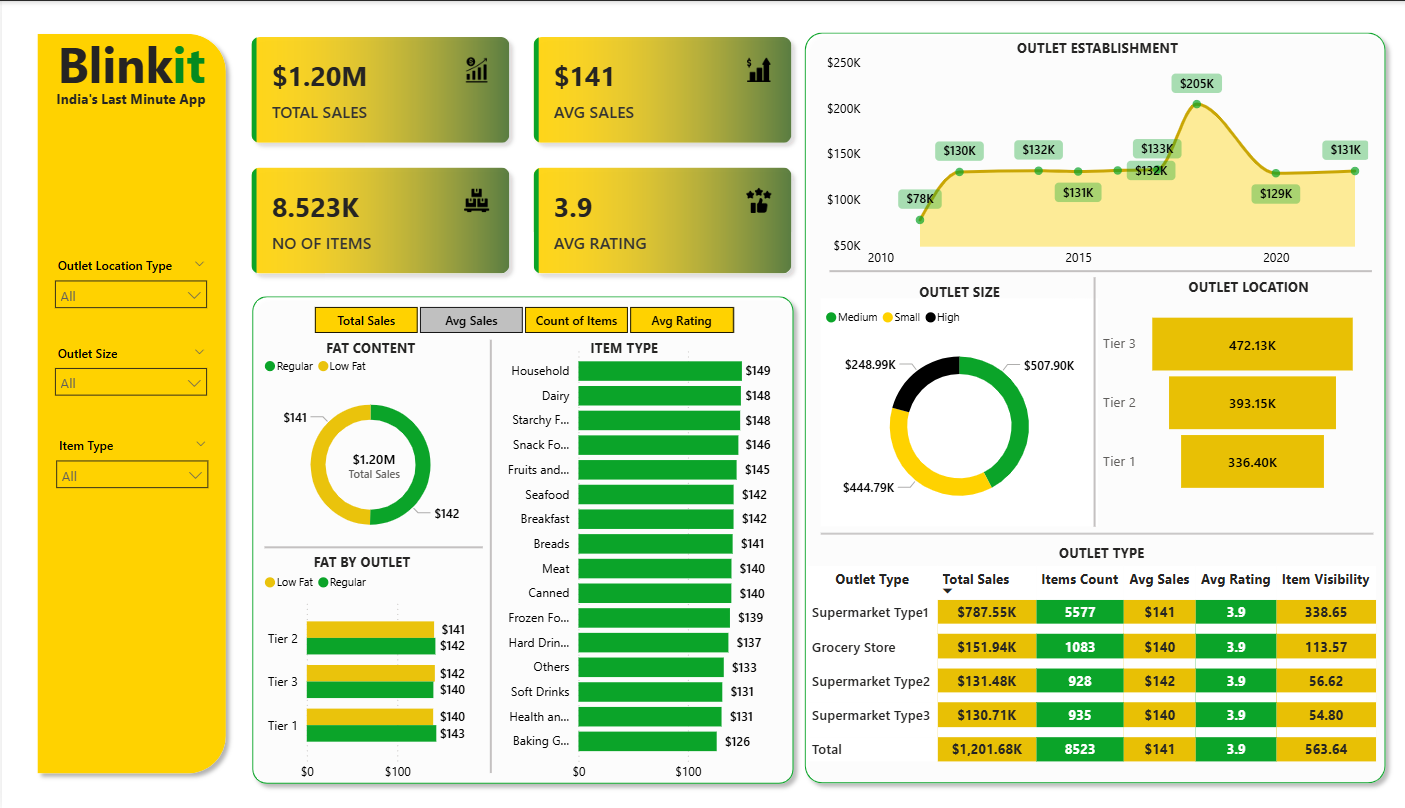

Layout of this report page (visuals, bound fields, positions):
{"tool":"powerbi","page":{"name":"Main Page","canvas":[1399,800],"ordinal":0},"visuals":[{"type":"shape","box":[25.9,23.2,204.5,749.8],"z":0},{"type":"textbox","box":[42.3,24.5,171.8,84.5],"z":1000},{"type":"textbox","box":[43.6,83.2,169.1,31.4],"z":2000},{"type":"cardVisual","fields":{"Data":["BlinkIT Grocery Data.Total Sales","BlinkIT Grocery Data.Avg Sales","BlinkIT Grocery Data.Count of Items","BlinkIT Grocery Data.Avg Rating"]},"box":[230.4,19.1,569.9,269.9],"z":3000},{"type":"shape","box":[238.6,283.6,553.5,500.3],"z":4000},{"type":"donutChart","title":"FAT CONTENT","fields":{"Y":["BlinkIT Grocery Data.Total Sales"],"Category":["BlinkIT Grocery Data.Item Fat Content"]},"box":[254.4,343,220.3,205.1],"z":5000},{"type":"slicer","fields":{"Values":["Metrics.Metrics"]},"box":[283.1,295,464.4,40],"z":6000},{"type":"cardVisual","fields":{"Data":["BlinkIT Grocery Data.Total Sales"]},"box":[320.3,426.6,96.2,57],"z":7000},{"type":"clusteredBarChart","title":"FAT BY OUTLET","fields":{"Y":["BlinkIT Grocery Data.Total Sales"],"Category":["BlinkIT Grocery Data.Outlet Location Type"],"Series":["BlinkIT Grocery Data.Item Fat Content"]},"box":[254.4,557,221.5,224.1],"z":8000},{"type":"shape","box":[260,533.8,216.2,12.5],"z":9000},{"type":"shape","box":[476.2,335,15,428.8],"z":10000},{"type":"barChart","title":"ITEM TYPE","fields":{"Y":["BlinkIT Grocery Data.Total Sales"],"Category":["BlinkIT Grocery Data.Item Type"]},"box":[483.8,333.8,295,447.5],"z":11000},{"type":"textbox","box":[568.5,328.5,93.8,28.5],"z":12000},{"type":"textbox","box":[303.8,329.1,121.5,27.8],"z":13000},{"type":"textbox","box":[297.5,540.5,116.5,27.8],"z":14000},{"type":"shape","box":[785,22.5,592.5,760.8],"z":15000},{"type":"lineChart","fields":{"Category":["BlinkIT Grocery Data.Outlet Establishment Year"],"Y":["BlinkIT Grocery Data.Total Sales"]},"box":[811.4,46.8,545.6,225.3],"z":16000},{"type":"textbox","box":[1000,31.6,169.6,29.1],"z":17000},{"type":"donutChart","fields":{"Category":["BlinkIT Grocery Data.Outlet Size"],"Y":["BlinkIT Grocery Data.Total Sales"]},"box":[810.1,294.9,274.7,225.3],"z":18000},{"type":"textbox","box":[888.6,273.4,119,29.1],"z":19000},{"type":"shape","box":[1077.2,273.4,7.6,246.8],"z":20000},{"type":"funnel","fields":{"Y":["Sum(BlinkIT Grocery Data.Sales)"],"Category":["BlinkIT Grocery Data.Outlet Location Type"]},"box":[1084.8,259.5,262,274.7],"z":21000},{"type":"textbox","box":[1157,268.4,154.4,29.1],"z":22000},{"type":"shape","box":[810.1,519,546.8,15.2],"z":23000},{"type":"shape","box":[819,260.8,536.7,12.7],"z":24000},{"type":"pivotTable","fields":{"Rows":["BlinkIT Grocery Data.Outlet Type"],"Values":["BlinkIT Grocery Data.Total Sales","BlinkIT Grocery Data.Count of Items","BlinkIT Grocery Data.Avg Sales","BlinkIT Grocery Data.Avg Rating","Sum(BlinkIT Grocery Data.Item Visibility)"]},"box":[791.1,554.4,574.7,230.4],"z":25000},{"type":"textbox","box":[1019,531.6,138,29.1],"z":26000},{"type":"slicer","fields":{"Values":["BlinkIT Grocery Data.Outlet Location Type"]},"box":[41.8,248.1,170.9,81],"z":27000},{"type":"slicer","fields":{"Values":["BlinkIT Grocery Data.Item Type"]},"box":[43,426.6,170.9,81],"z":28000},{"type":"slicer","fields":{"Values":["BlinkIT Grocery Data.Outlet Size"]},"box":[41.8,335.4,170.9,81],"z":29000}]}

Visuals, with their boxes in screenshot pixels (x1, y1, x2, y2), scaled from the page's 1399x800 canvas onto the 1405x808 screenshot:
shape: l=26, t=23, r=231, b=781
textbox: l=42, t=25, r=215, b=110
textbox: l=44, t=84, r=214, b=116
cardVisual - BlinkIT Grocery Data.Total Sales x BlinkIT Grocery Data.Avg Sales: l=231, t=19, r=804, b=292
shape: l=240, t=286, r=795, b=792
"FAT CONTENT" donutChart: l=255, t=346, r=477, b=554
slicer - Metrics.Metrics: l=284, t=298, r=751, b=338
cardVisual - BlinkIT Grocery Data.Total Sales: l=322, t=431, r=418, b=488
"FAT BY OUTLET" clusteredBarChart: l=255, t=563, r=478, b=789
shape: l=261, t=539, r=478, b=552
shape: l=478, t=338, r=493, b=771
"ITEM TYPE" barChart: l=486, t=337, r=782, b=789
textbox: l=571, t=332, r=665, b=361
textbox: l=305, t=332, r=427, b=360
textbox: l=299, t=546, r=416, b=574
shape: l=788, t=23, r=1383, b=791
lineChart - BlinkIT Grocery Data.Outlet Establishment Year x BlinkIT Grocery Data.Total Sales: l=815, t=47, r=1363, b=275
textbox: l=1004, t=32, r=1175, b=61
donutChart - BlinkIT Grocery Data.Outlet Size x BlinkIT Grocery Data.Total Sales: l=814, t=298, r=1089, b=525
textbox: l=892, t=276, r=1012, b=306
shape: l=1082, t=276, r=1089, b=525
funnel - Sum(BlinkIT Grocery Data.Sales) x BlinkIT Grocery Data.Outlet Location Type: l=1089, t=262, r=1353, b=540
textbox: l=1162, t=271, r=1317, b=300
shape: l=814, t=524, r=1363, b=540
shape: l=823, t=263, r=1362, b=276
pivotTable - BlinkIT Grocery Data.Outlet Type x BlinkIT Grocery Data.Total Sales: l=794, t=560, r=1372, b=793
textbox: l=1023, t=537, r=1162, b=566
slicer - BlinkIT Grocery Data.Outlet Location Type: l=42, t=251, r=214, b=332
slicer - BlinkIT Grocery Data.Item Type: l=43, t=431, r=215, b=513
slicer - BlinkIT Grocery Data.Outlet Size: l=42, t=339, r=214, b=421
